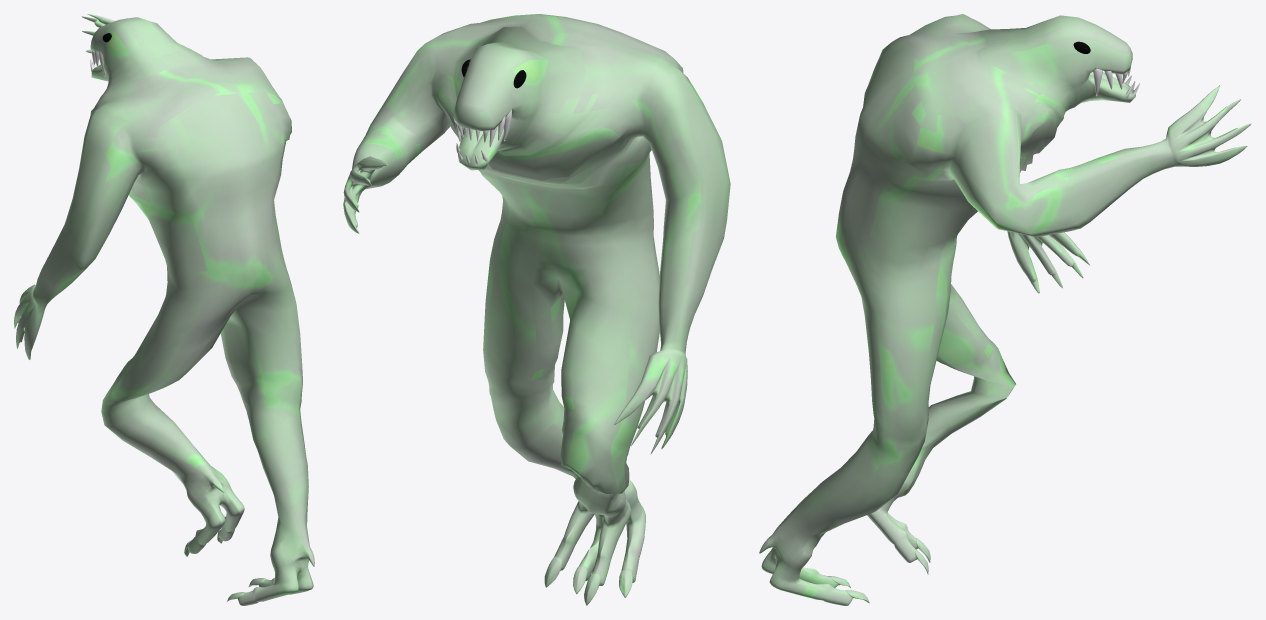
Rendered from Berserkercorrer.0041.obj.
3 views of the same model, side by side, from view 1: azimuth 30°, elevation 25°; view 2: azimuth 150°, elevation 25°; view 3: azimuth 270°, elevation 25° (orthographic). The views are drawn at different scales.
Visible parts, largest first — view 1: polySurface27; view 2: polySurface27; view 3: polySurface27.
Part boxes in pixels (left/top/right/bottom): polySurface27: left=14, top=14, right=314, bottom=605; polySurface27: left=343, top=14, right=730, bottom=605; polySurface27: left=759, top=14, right=1251, bottom=605.
Bounding box in the file's own units: 11.54 × 21.97 × 17.2.
1 material, 1 textured.
